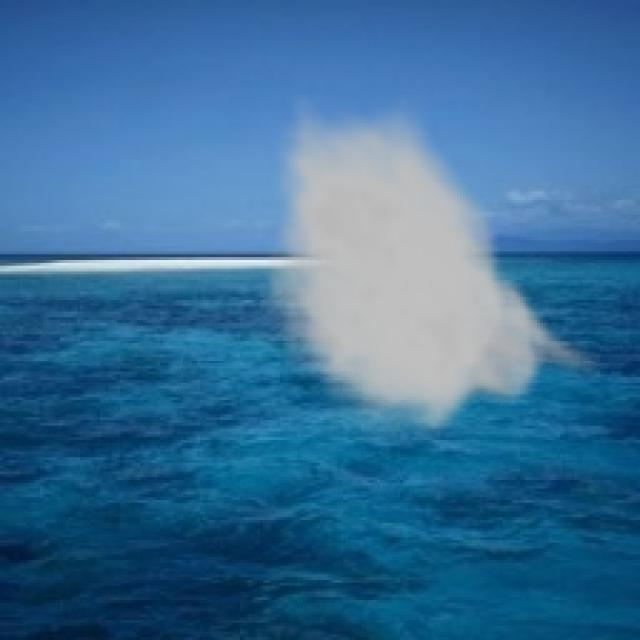smoke: (260, 91, 609, 446)
